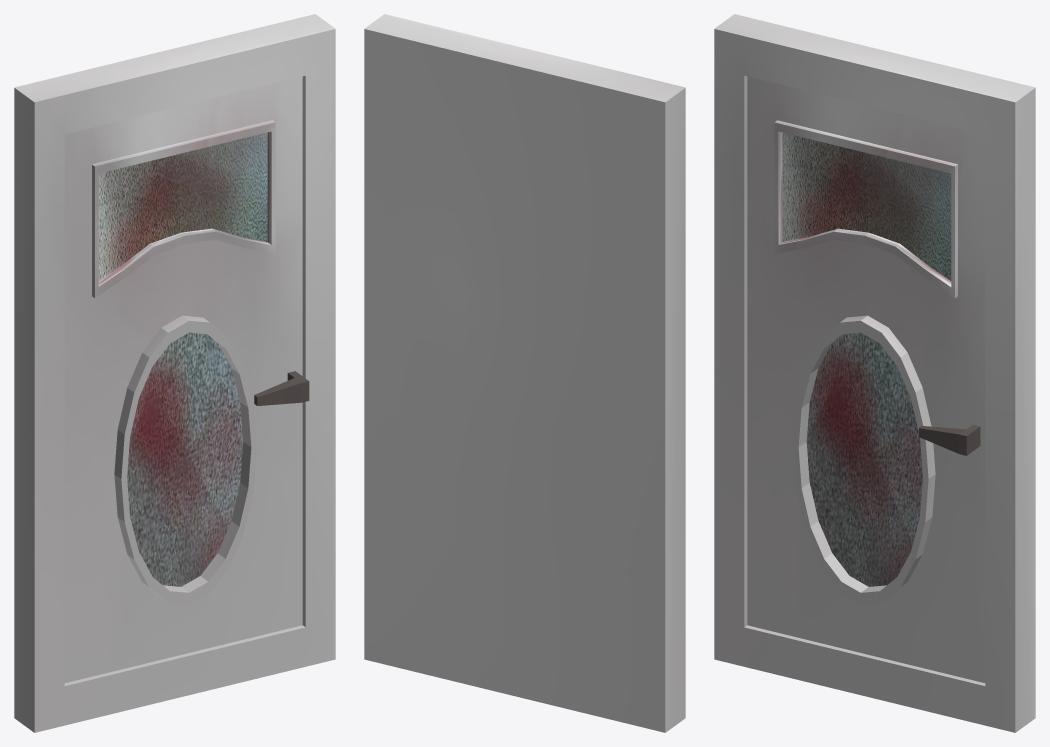
File: Puerta_16.fbx
3 views of the same model, side by side, from view 1: azimuth 30°, elevation 25°; view 2: azimuth 150°, elevation 25°; view 3: azimuth 330°, elevation 25° (orthographic).
Visible parts, largest first — view 1: Cube.012; view 2: Cube.012; view 3: Cube.012.
Boxes of the visible parts, bbox=[...] form: Cube.012: bbox=[14, 14, 335, 732]; Cube.012: bbox=[364, 14, 685, 732]; Cube.012: bbox=[714, 14, 1035, 732].
Size of the model in its own units: 200 by 400 by 36.09.
